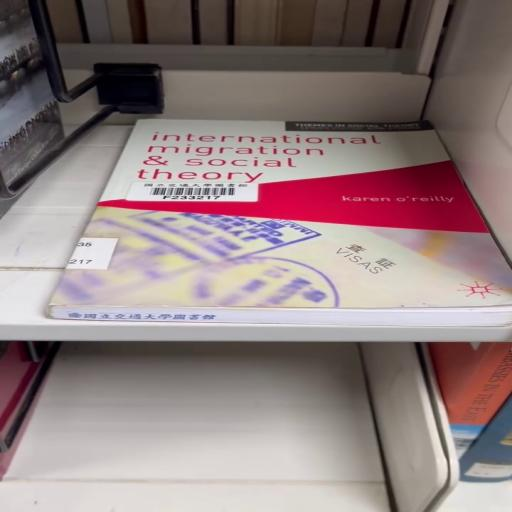flat: (48, 120, 511, 326)
